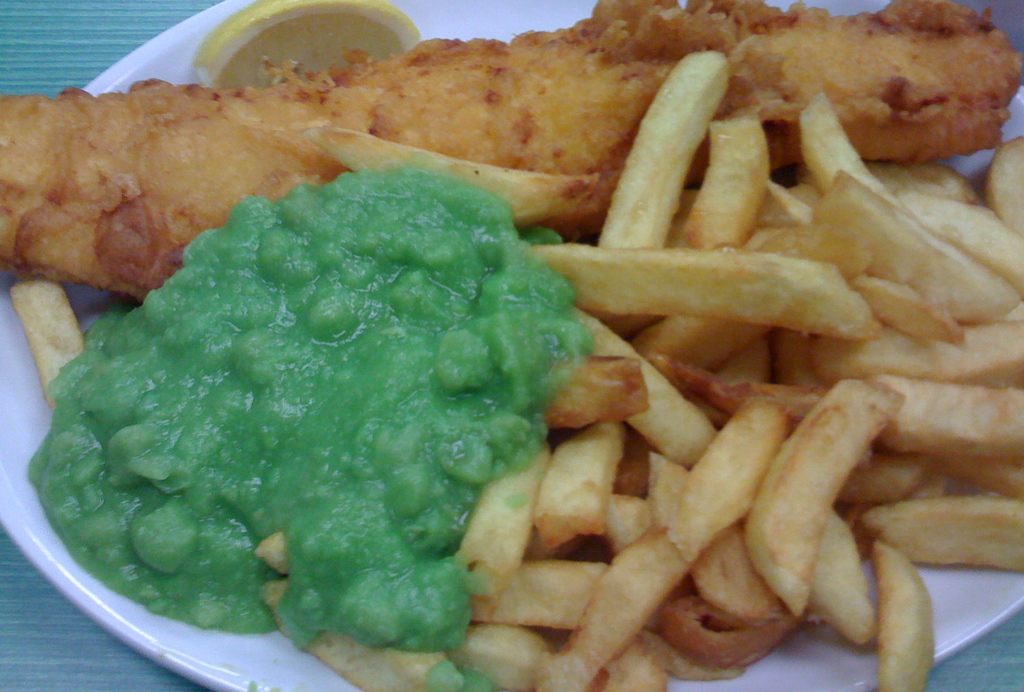French fries: (8, 46, 1023, 691)
